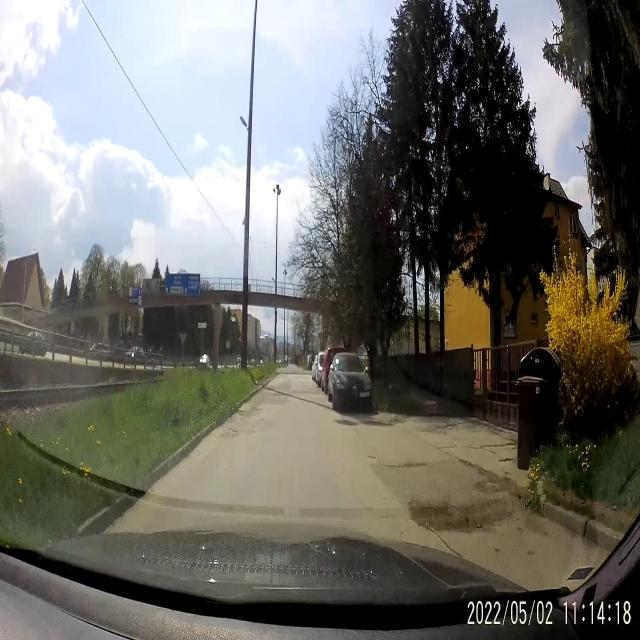Pothole: (408, 495, 484, 536), (382, 460, 428, 471), (498, 454, 514, 464)
